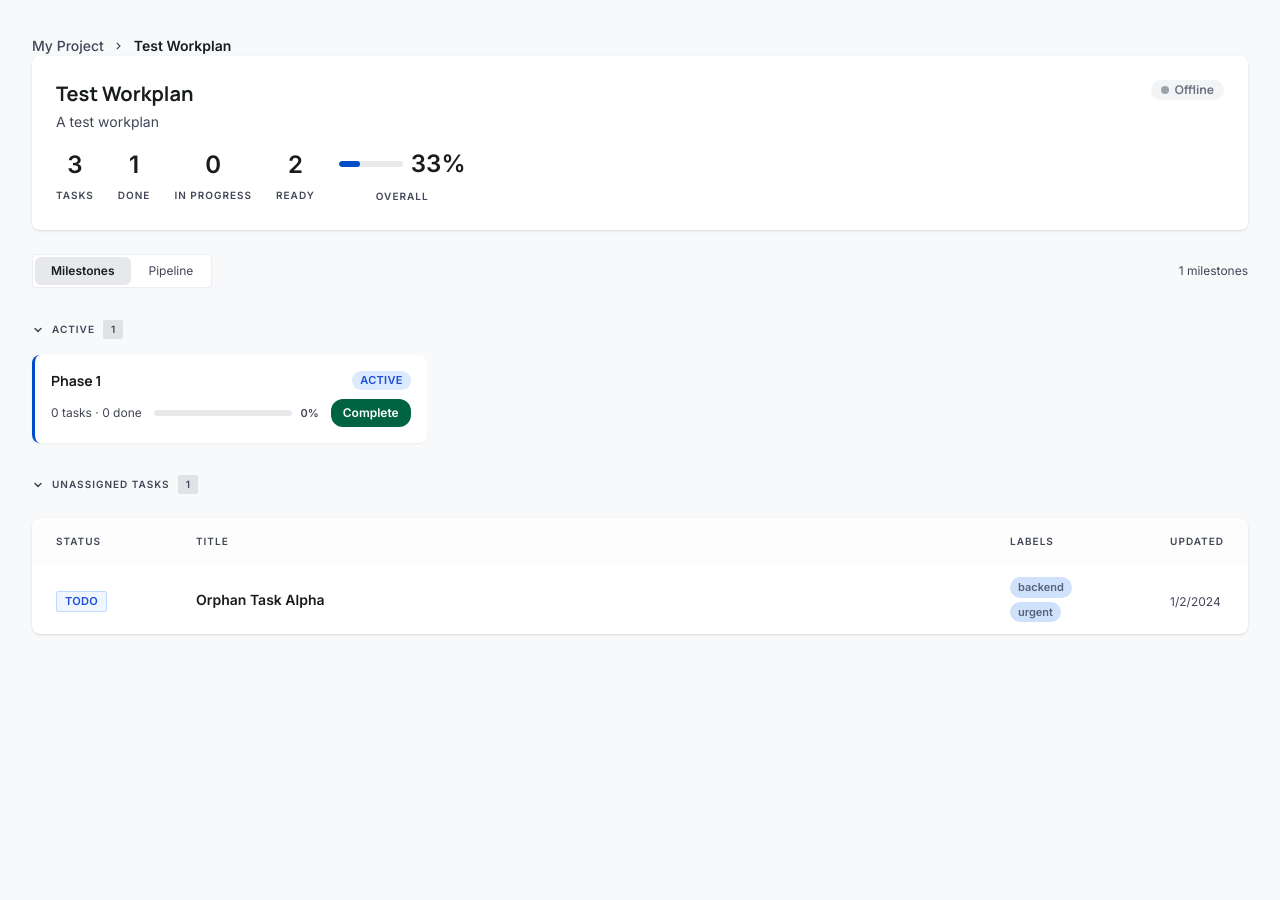
WorkplanDetail — Unassigned Tasks › clicking an orphan task opens the TaskDetail modal
Step 1. Click the text "Orphan Task Alpha" → (260, 599), box top-left (172, 565), bottom-right (986, 634)
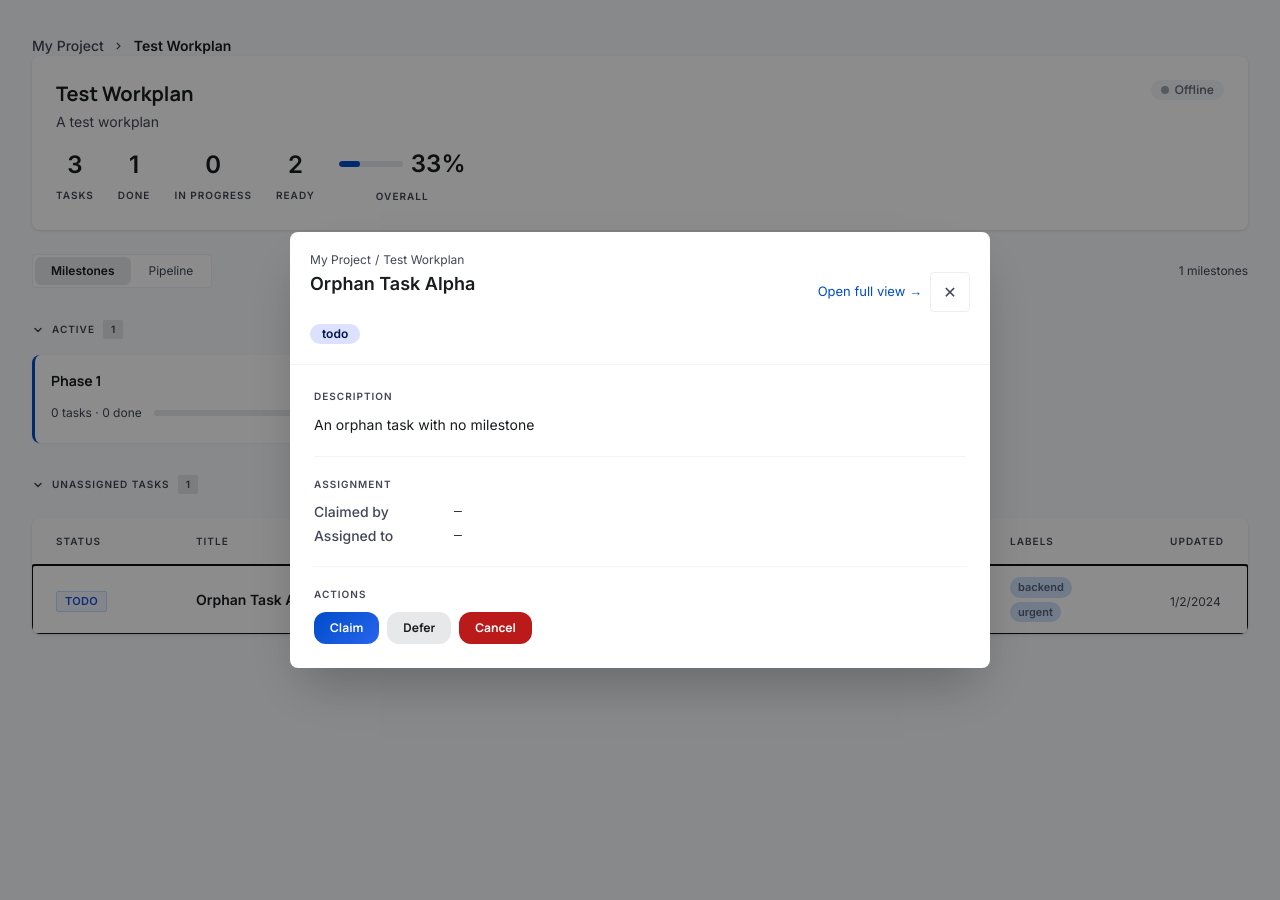
Now the dialog is shown
